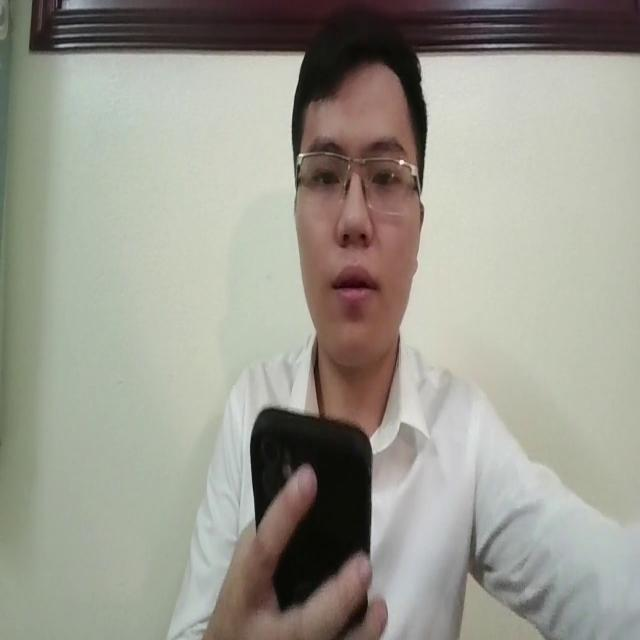phone: (249, 391, 373, 640)
student: (169, 8, 640, 640)
